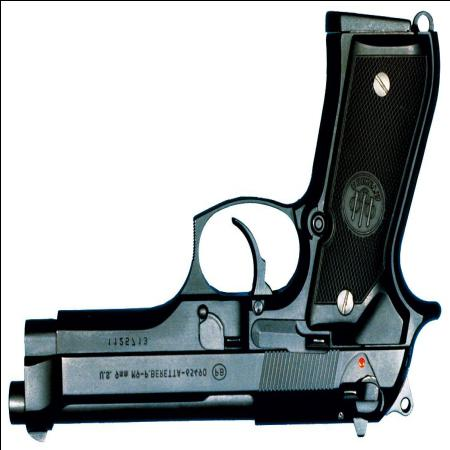Pistol: (7, 11, 439, 443)
